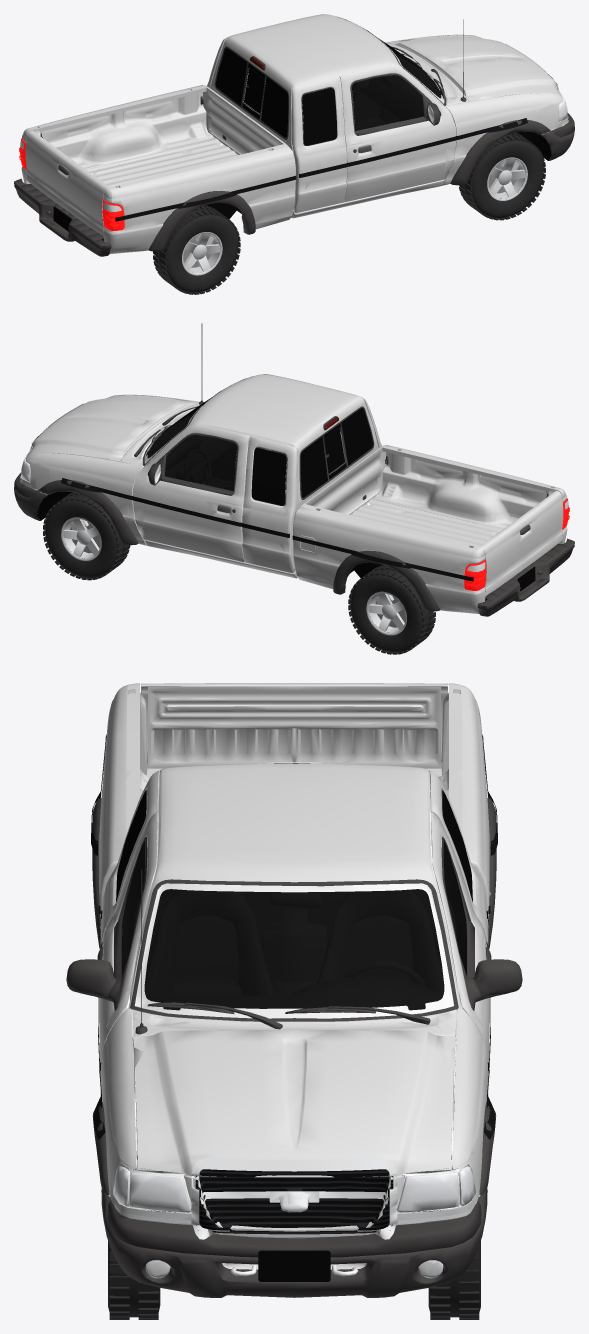
Rendered from forde_rangler.glb.
3 renders of one model, top to bottom at view 1: azimuth 30°, elevation 25°; view 2: azimuth 150°, elevation 25°; view 3: azimuth 270°, elevation 25°, orthographic. The views are drawn at different scales.
Visible parts, largest first — view 1: part_bed, liner_trim, part_roof, part_door_fr, part_glass, part_quarter_rr, part_hood, wheel_rr, wheel_fr, part_fender_fr, part_rear_bumper, part_quarter_rl (+3 smaller); view 2: part_bed, liner_trim, part_roof, part_door_fl, part_glass, part_quarter_rl, part_hood, wheel_rl, wheel_fl, part_fender_fl, part_rear_bumper, part_quarter_rr (+3 smaller); view 3: liner_trim, part_hood, part_glass, part_roof, part_bed, core, part_fender_fl, part_fender_fr, part_quarter_rl, part_quarter_rr, part_front_bumper, part_rear_bumper (+6 smaller).
Part boxes in pixels (x1,y1,x2,y2): part_bed: (22, 85, 297, 222); liner_trim: (14, 14, 574, 256); part_roof: (215, 14, 422, 118); part_door_fr: (316, 85, 445, 213); part_glass: (215, 39, 441, 145); part_quarter_rr: (110, 115, 305, 229); part_hood: (387, 35, 561, 104); wheel_rr: (153, 205, 240, 294); wheel_fr: (459, 132, 545, 220); part_fender_fr: (435, 64, 562, 185); part_rear_bumper: (21, 153, 168, 253); part_quarter_rl: (26, 60, 220, 143); part_bed: (291, 445, 566, 582); liner_trim: (14, 323, 574, 616); part_roof: (166, 374, 373, 478); part_door_fl: (143, 445, 272, 573); part_glass: (146, 399, 373, 505); part_quarter_rl: (283, 475, 478, 589); part_hood: (27, 395, 200, 464); wheel_rl: (348, 565, 435, 654); wheel_fl: (43, 492, 130, 580); part_fender_fl: (26, 424, 153, 545); part_rear_bumper: (420, 512, 567, 613); part_quarter_rr: (368, 420, 562, 503); liner_trim: (66, 689, 522, 1297); part_hood: (133, 941, 455, 1177); part_glass: (116, 791, 472, 1010); part_roof: (130, 763, 458, 942); part_bed: (126, 683, 462, 832); core: (195, 1169, 393, 1234); part_fender_fl: (416, 986, 488, 1171); part_fender_fr: (100, 986, 172, 1171); part_quarter_rl: (456, 684, 490, 940); part_quarter_rr: (99, 684, 132, 940); part_front_bumper: (107, 1139, 481, 1237); part_rear_bumper: (140, 748, 448, 789).
Bounding box in the file's own units: 5.15 × 2.03 × 2.07.
Materials: 24 (1 with a texture image).
